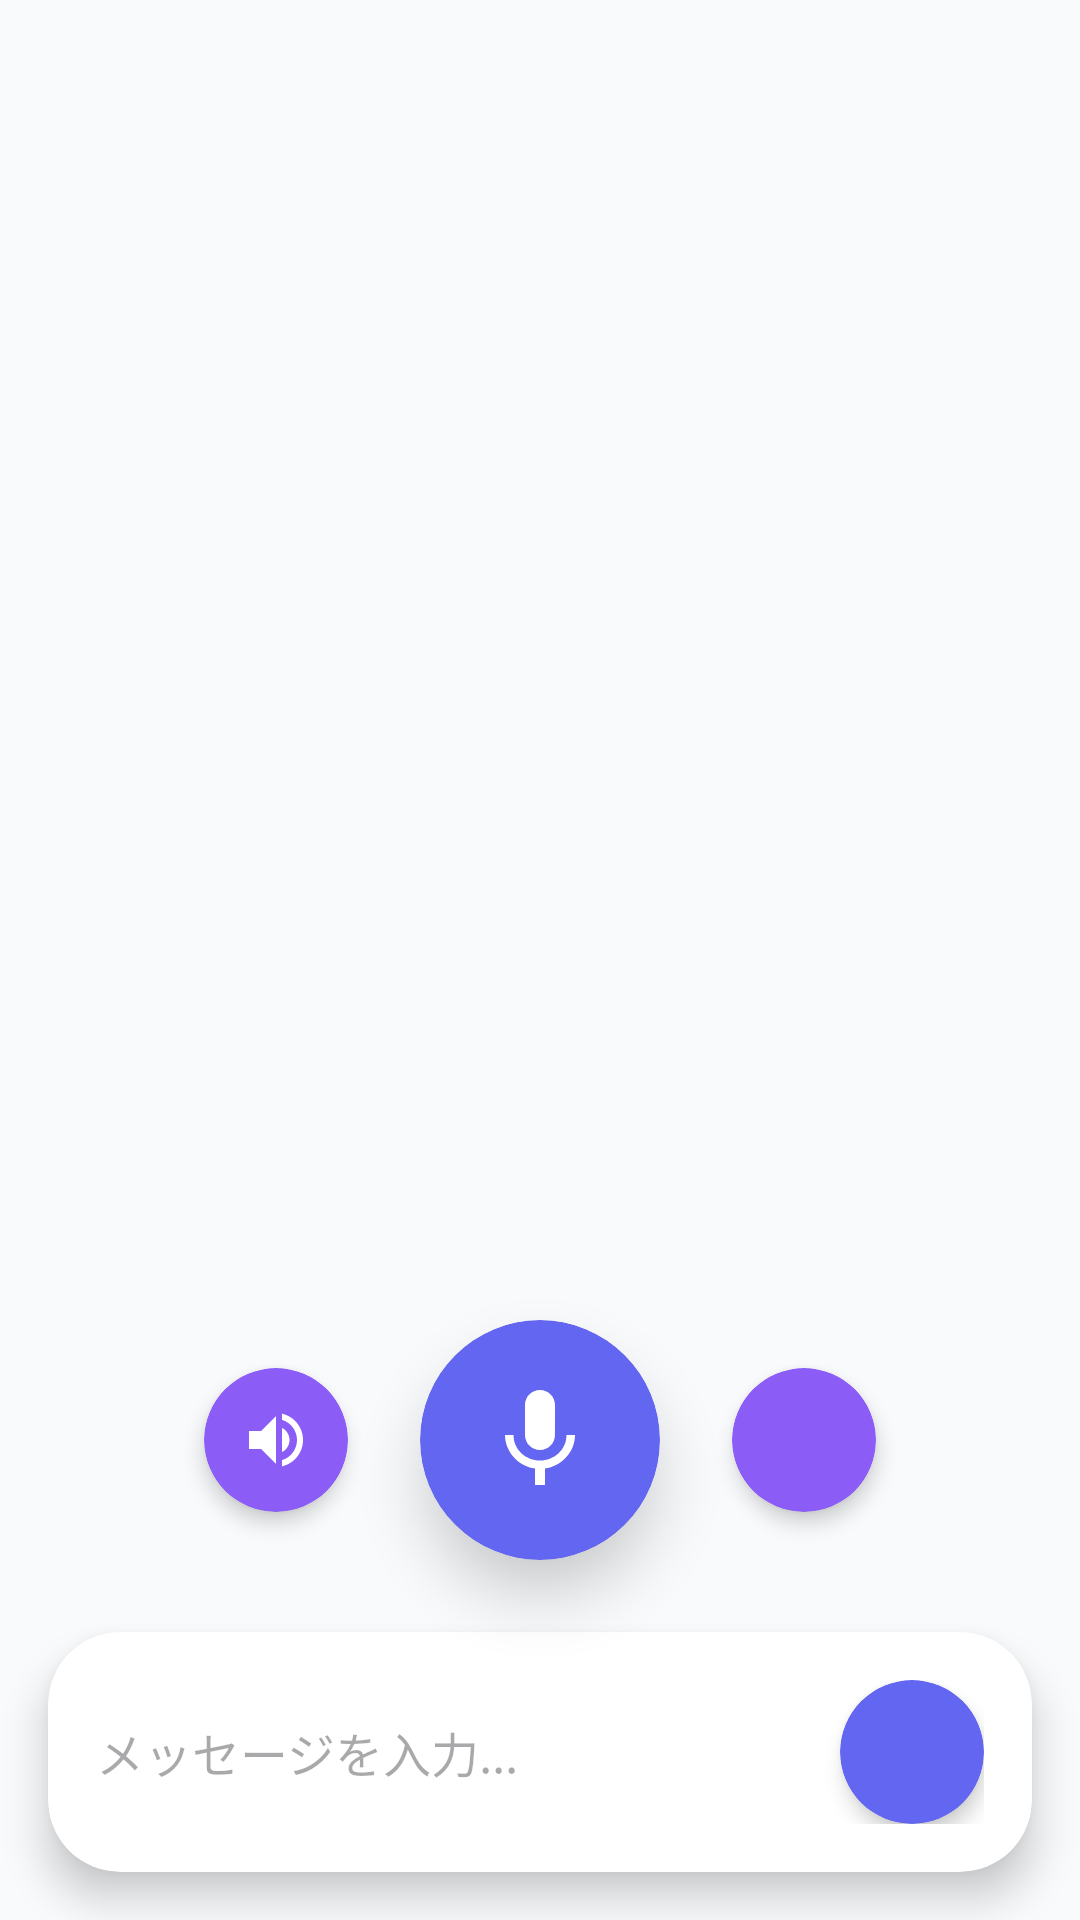

Where icons sit on this 1080px×1920px app screen, as [x1, y1, x2, y2]:
mic: [505, 1390, 575, 1485]
volume up: [249, 1413, 303, 1467]
